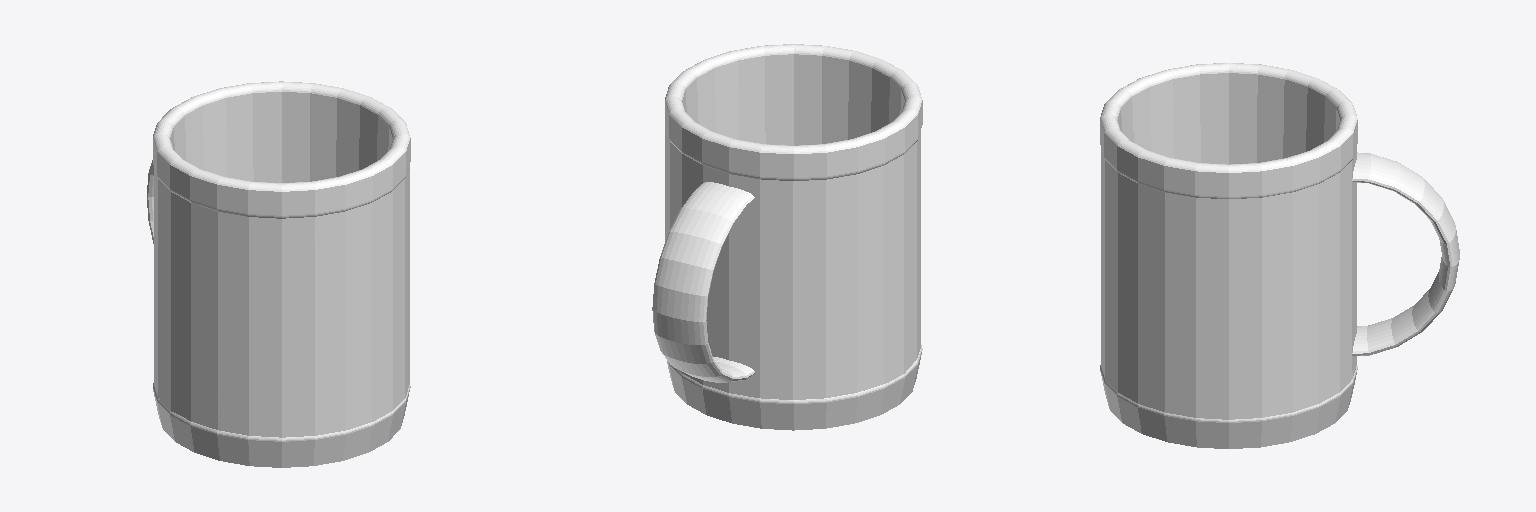
3 renders of one model, left to right at view 1: azimuth 30°, elevation 25°; view 2: azimuth 150°, elevation 25°; view 3: azimuth 270°, elevation 25°, orthographic.
Parts seen in each view (by area): view 1: model_normalized.006; view 2: model_normalized.006; view 3: model_normalized.006.
Boxes of the visible parts, x1=… form: model_normalized.006: x1=147, y1=81, x2=410, y2=467; model_normalized.006: x1=652, y1=44, x2=922, y2=430; model_normalized.006: x1=1100, y1=63, x2=1459, y2=448.
Bounding box in the file's own units: 0.4761 × 0.5756 × 0.6649.